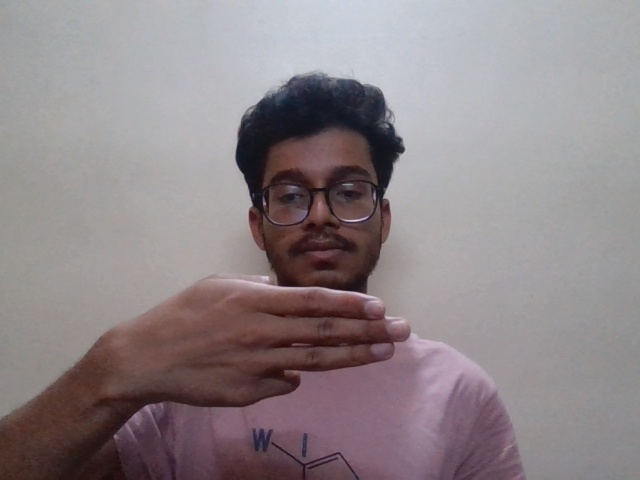wednesday: (63, 253, 415, 420)
